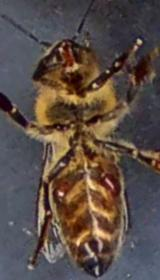varroa_mite: (90, 162, 128, 200), (48, 164, 74, 207)
